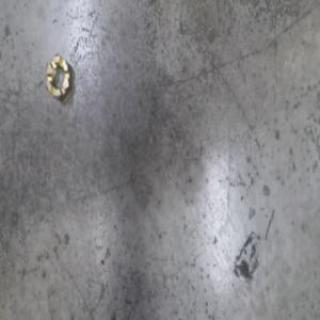Nuttrack_idkeyframe: (43, 50, 72, 103)
